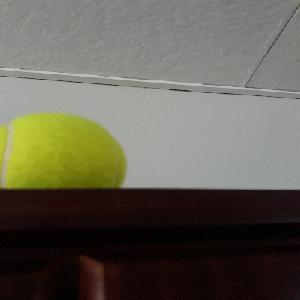Ball: (2, 112, 126, 189)
